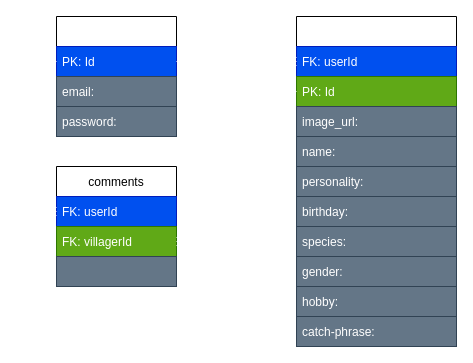
Some shapes in this 473 by 363 pixel diagram are drawn without their labels. Here are the shapes that lost their labels. From the top down, the box of each, then its label:
(56, 16, 176, 136): user
(296, 16, 456, 346): villagers
(56, 256, 176, 286): comments:
